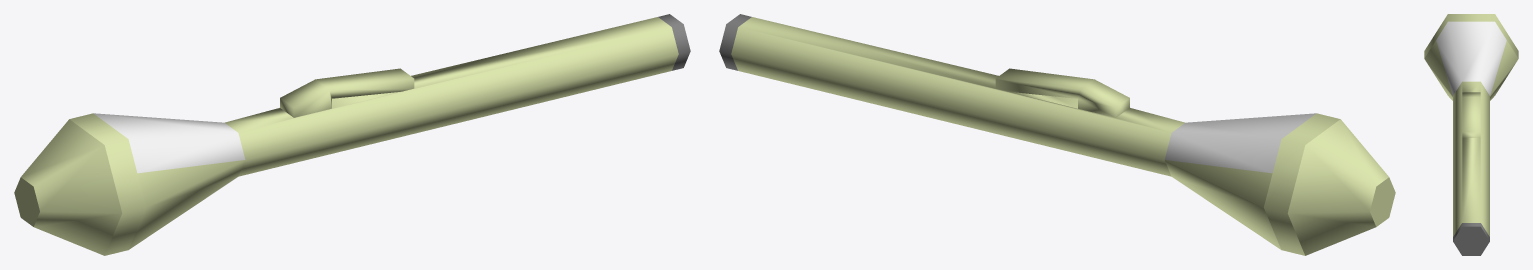
The model's file is Panzerfaust.fbx.
3 views of the same model, side by side, from view 1: azimuth 30°, elevation 25°; view 2: azimuth 150°, elevation 25°; view 3: azimuth 270°, elevation 25° (orthographic). The views are drawn at different scales.
Visible parts, largest first — view 1: Panzerfaust, Head; view 2: Panzerfaust, Head; view 3: Panzerfaust, Head.
Boxes of the visible parts, x1,y1,x2,y2 form: Panzerfaust: (225,14,690,176); Head: (14,113,245,255); Panzerfaust: (719,14,1184,176); Head: (1164,113,1395,255); Panzerfaust: (1453,81,1489,255); Head: (1424,14,1518,100).
Size of the model in its own units: 0.1613 by 0.8555 by 0.1397.
